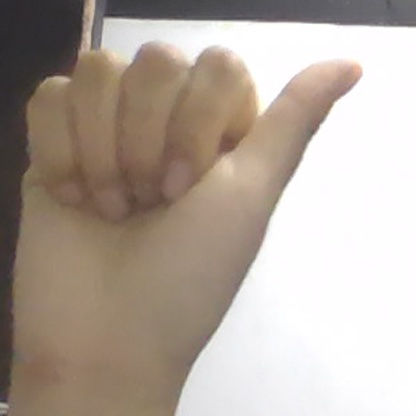A: (14, 43, 362, 369)
